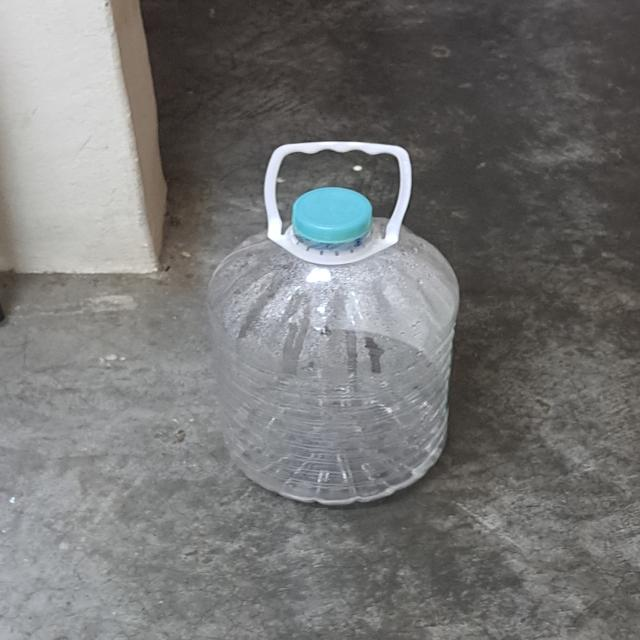plastic bottle: (204, 218, 461, 507)
plastic bottle cap: (291, 186, 373, 242)
